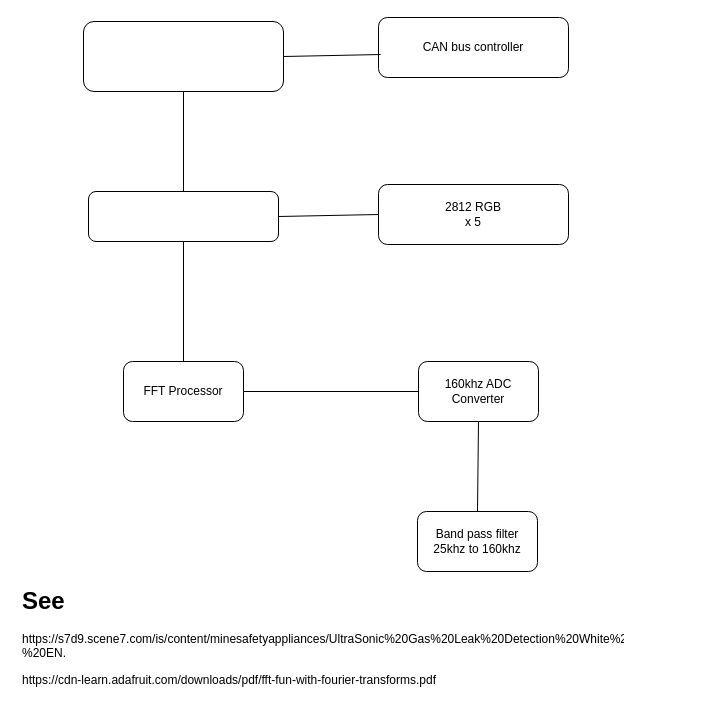
Some shapes in this 710 by 719 pixel diagram are drawn without their labels. Each missing label, with the centre of its shape:
AHT20 I2C Industrial Grade Temperature and Humidity Sensor; $4.50: the point at 183,56
Nand Arduino: the point at 183,216
